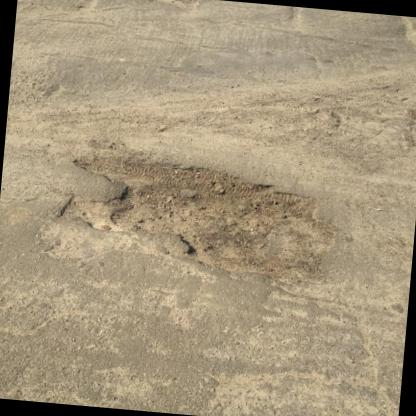pothole: (54, 145, 346, 289)
